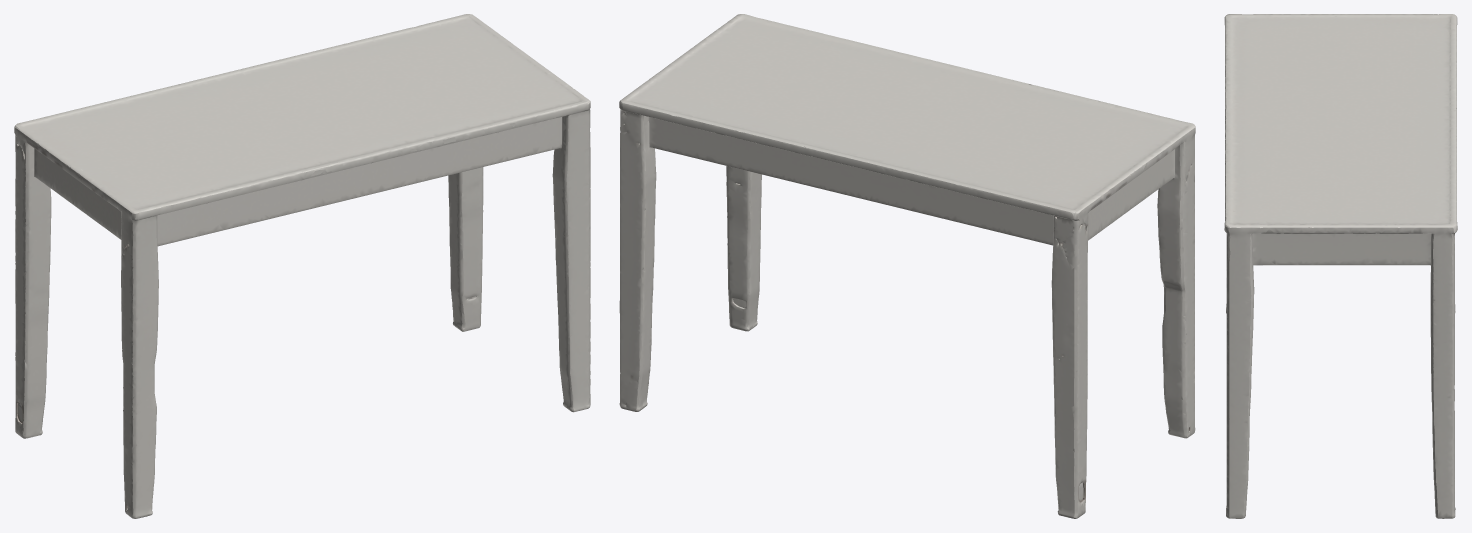
File: item_253e484e.glb
3 renders of one model, left to right at view 1: azimuth 30°, elevation 25°; view 2: azimuth 150°, elevation 25°; view 3: azimuth 270°, elevation 25°, orthographic. The views are drawn at different scales.
Parts seen in each view (by area): view 1: world; view 2: world; view 3: world.
Boxes of the visible parts, bbox=[...] form: world: bbox=[14, 14, 590, 518]; world: bbox=[619, 14, 1195, 518]; world: bbox=[1224, 14, 1457, 518].
Size of the model in its own units: 1.4 by 0.8959 by 0.6459.
1 material, 1 textured.
